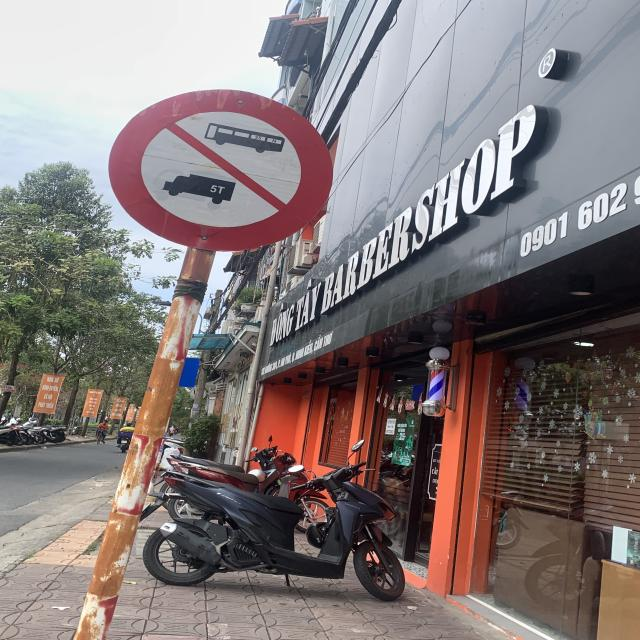Cam_XeTai_XeKhach: (108, 89, 336, 252)
